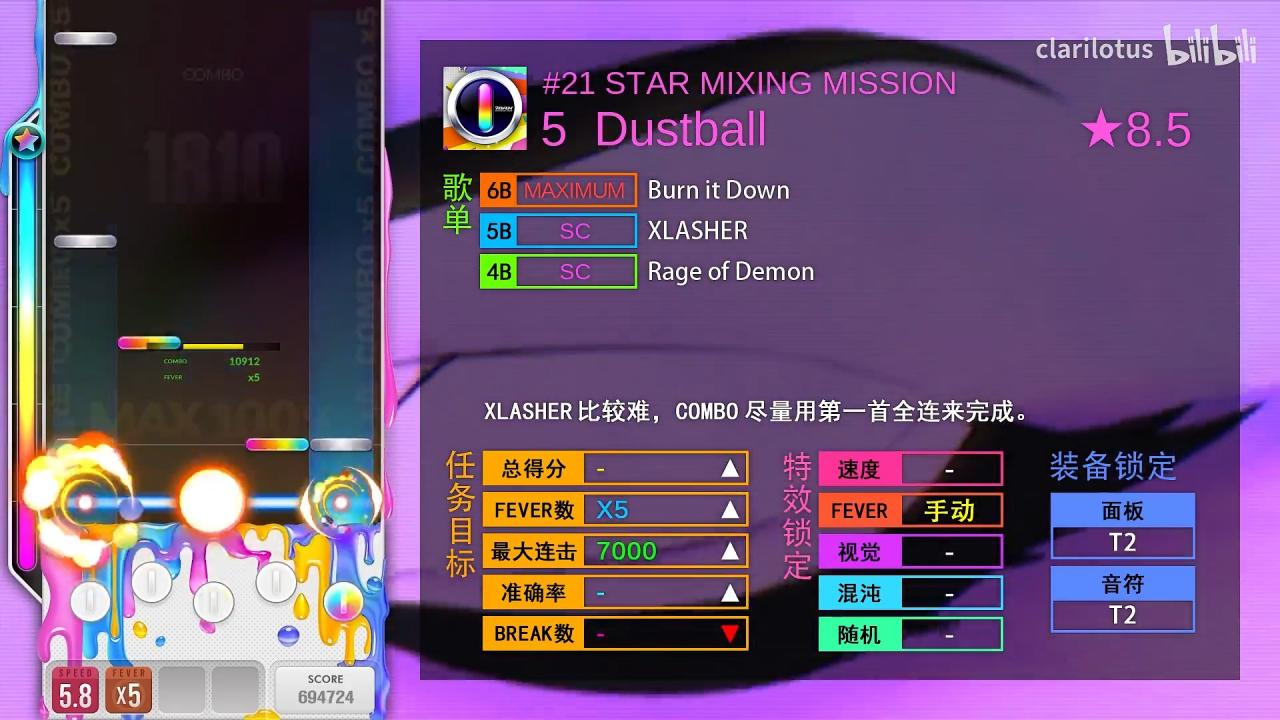note: (310, 437, 374, 453), (118, 336, 182, 351), (54, 31, 116, 46), (246, 438, 310, 452), (54, 234, 116, 248), (51, 438, 117, 450)
